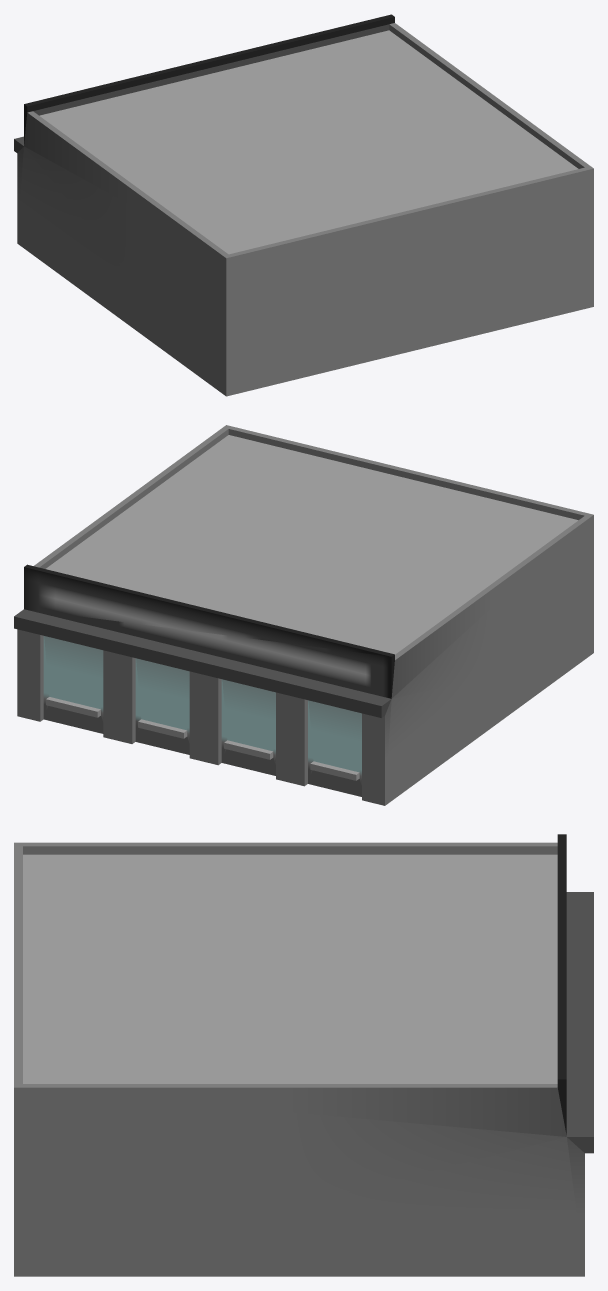
File: obj_store13.fbx
The picture shows the model from 3 angles, top to bottom: view 1: azimuth 30°, elevation 25°; view 2: azimuth 150°, elevation 25°; view 3: azimuth 270°, elevation 25°; orthographic projection. The views are drawn at different scales.
Visible parts, largest first — view 1: obj_store13; view 2: obj_store13; view 3: obj_store13.
Part boxes in pixels (x1,y1,x2,y2): obj_store13: (14, 14, 593, 396); obj_store13: (14, 425, 593, 805); obj_store13: (14, 834, 593, 1276).
Bounding box in the file's own units: 6.4 × 6.4 × 2.4.
1 material, 1 textured.
